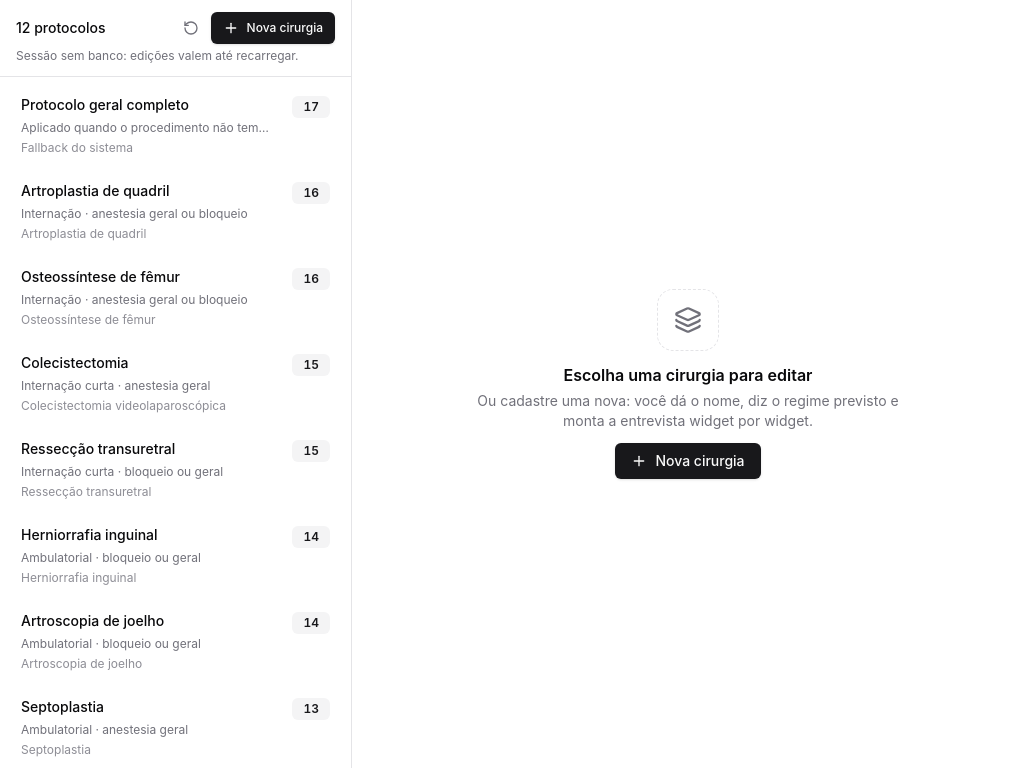
Scenario: Repertório › Protocolos › nova cirurgia abre o composer vazio, com estado vazio e sem widget nenhum
Click the button "Nova cirurgia" next to "protocolos". click: click(273, 28)
box: [211,12,335,44]
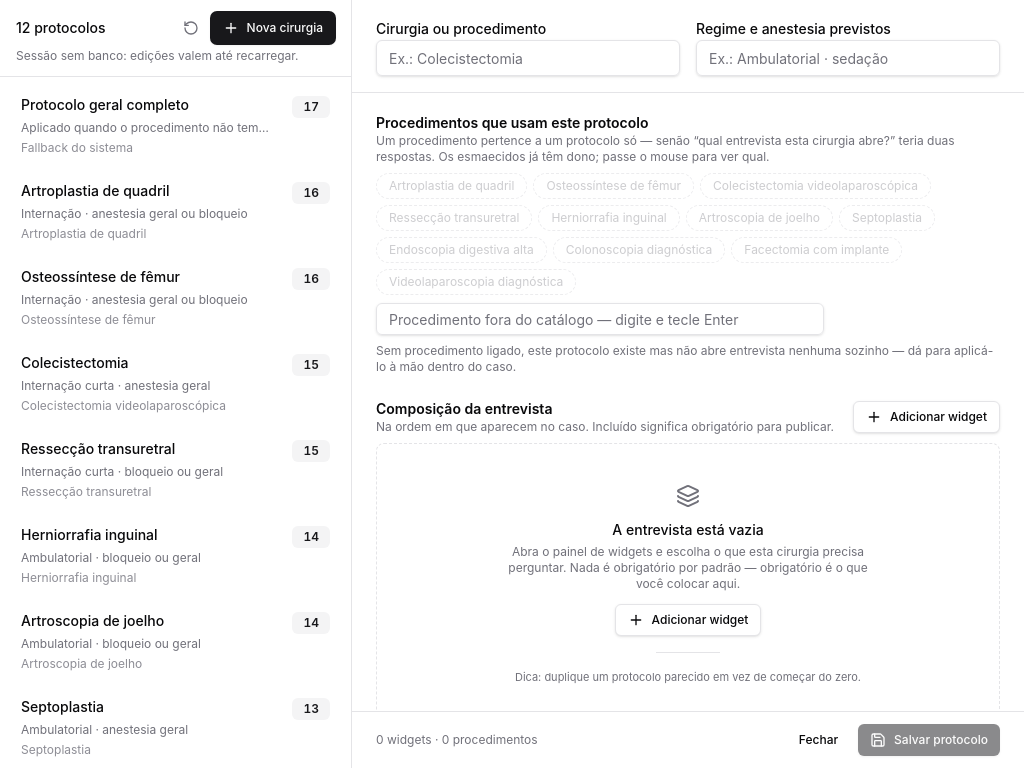
Expected: the field labelled "Cirurgia ou procedimento" is empty, [376,40,680,76]
Expected: the text "A entrevista está vazia" is shown, [612,521,764,538]
Expected: the text "0 widgets · 0 procedimentos" is shown, [376,732,538,748]
